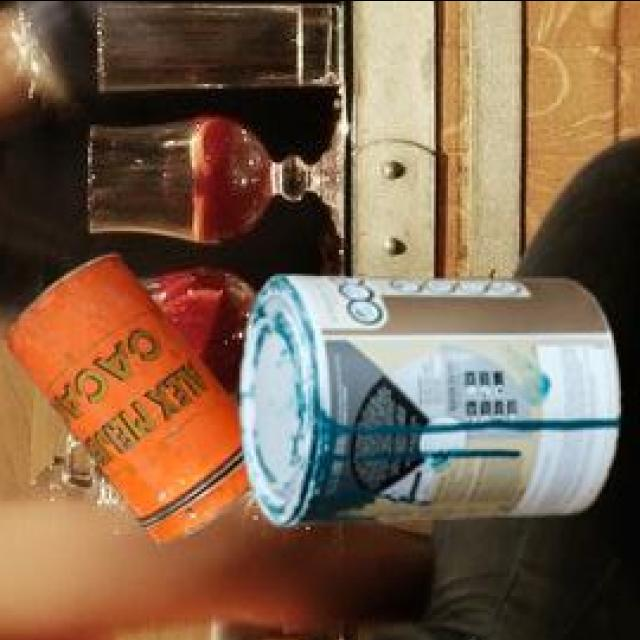logam: (236, 279, 617, 530), (1, 255, 248, 549)
